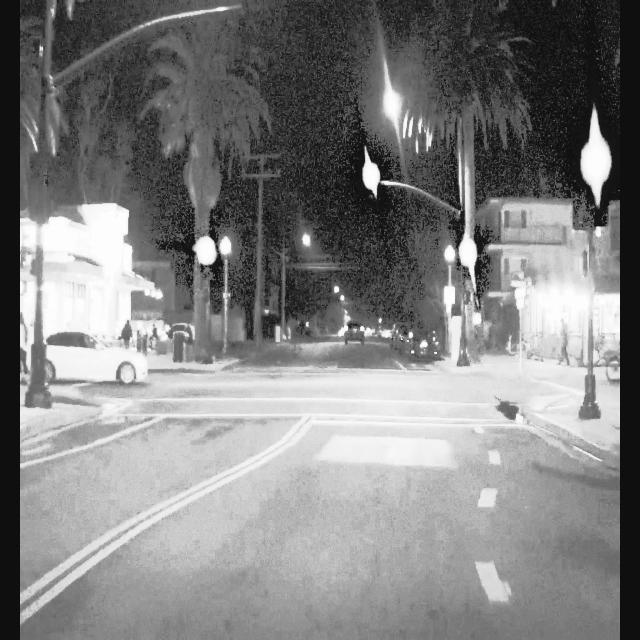Light: (582, 135, 610, 225), (27, 149, 51, 225), (463, 240, 473, 266), (203, 236, 211, 266), (368, 163, 375, 189)
